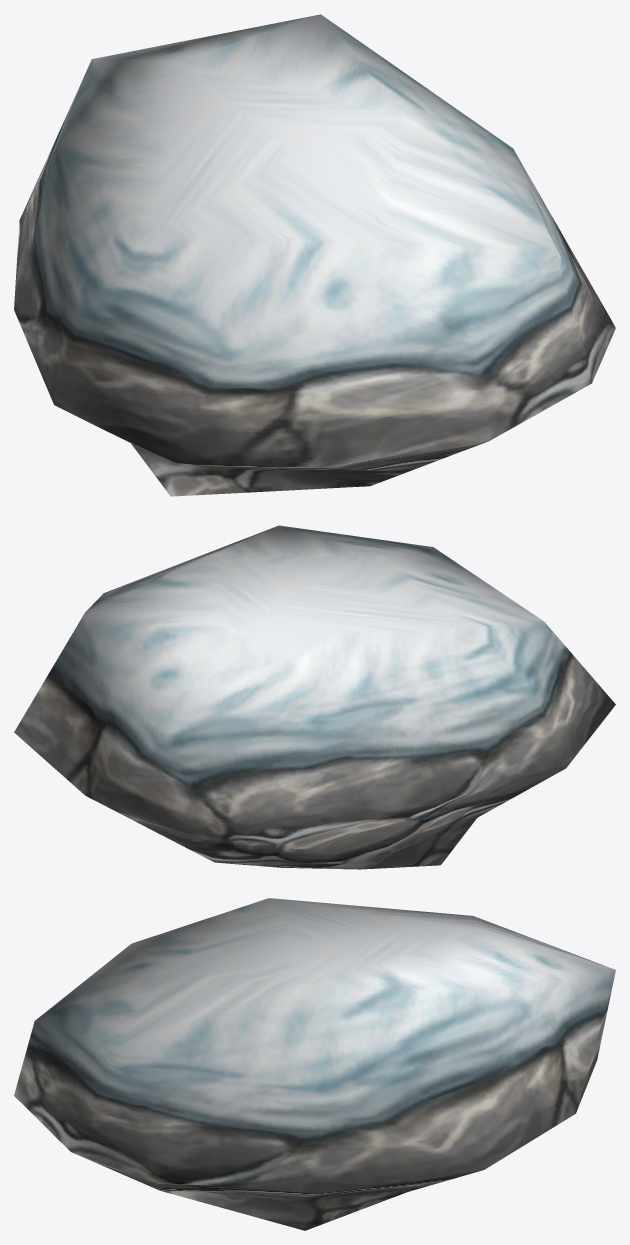
The model's file is winterspringrock01.obj.
3 renders of one model, top to bottom at view 1: azimuth 30°, elevation 25°; view 2: azimuth 150°, elevation 25°; view 3: azimuth 270°, elevation 25°, orthographic. The views are drawn at different scales.
Parts seen in each view (by area): view 1: winterspringrock01; view 2: winterspringrock01; view 3: winterspringrock01.
Part boxes in pixels (<box>): winterspringrock01: <box>14,14,615,496</box>; winterspringrock01: <box>14,525,615,869</box>; winterspringrock01: <box>14,898,615,1230</box>.
Size of the model in its own units: 11.22 by 7.12 by 13.27.
